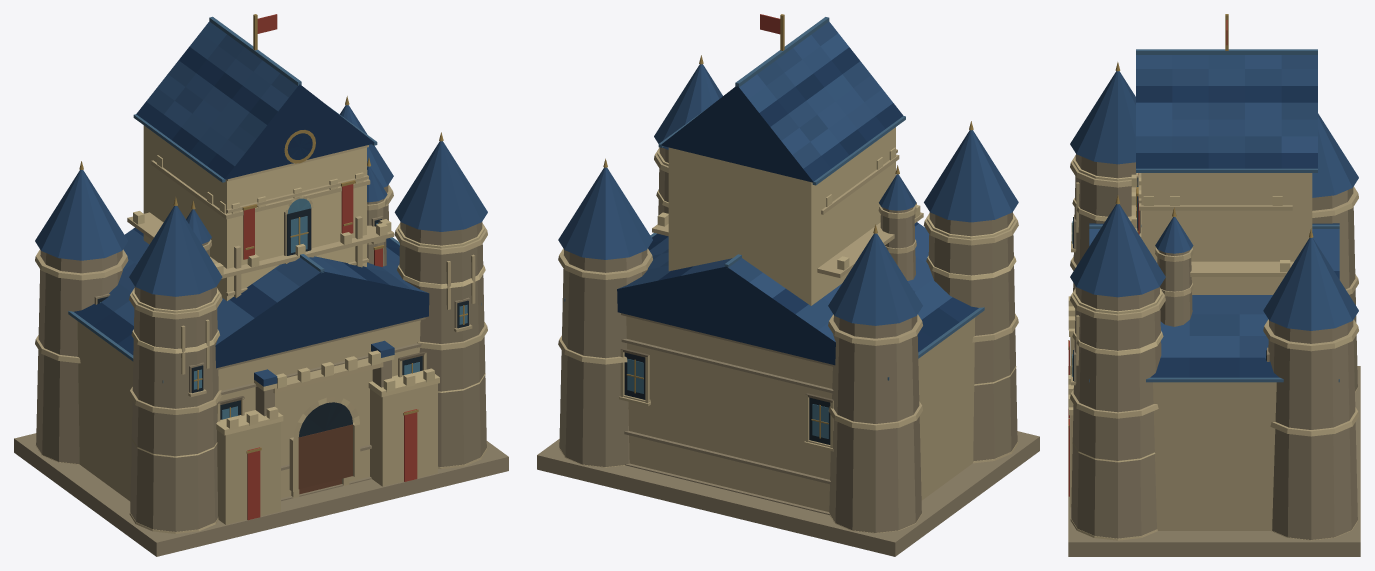
The model's file is falan_royal_keep.glb.
The picture shows the model from 3 angles, left to right: view 1: azimuth 30°, elevation 25°; view 2: azimuth 150°, elevation 25°; view 3: azimuth 270°, elevation 25°; orthographic projection. The views are drawn at different scales.
Visible parts, largest first — view 1: falan_royal_keep; view 2: falan_royal_keep; view 3: falan_royal_keep.
Boxes of the visible parts, box(x1,y1,x2,y2) form: falan_royal_keep: box(14, 14, 508, 556); falan_royal_keep: box(537, 14, 1039, 556); falan_royal_keep: box(1068, 14, 1360, 556).
Size of the model in its own units: 33.7 by 40.45 by 23.61.
